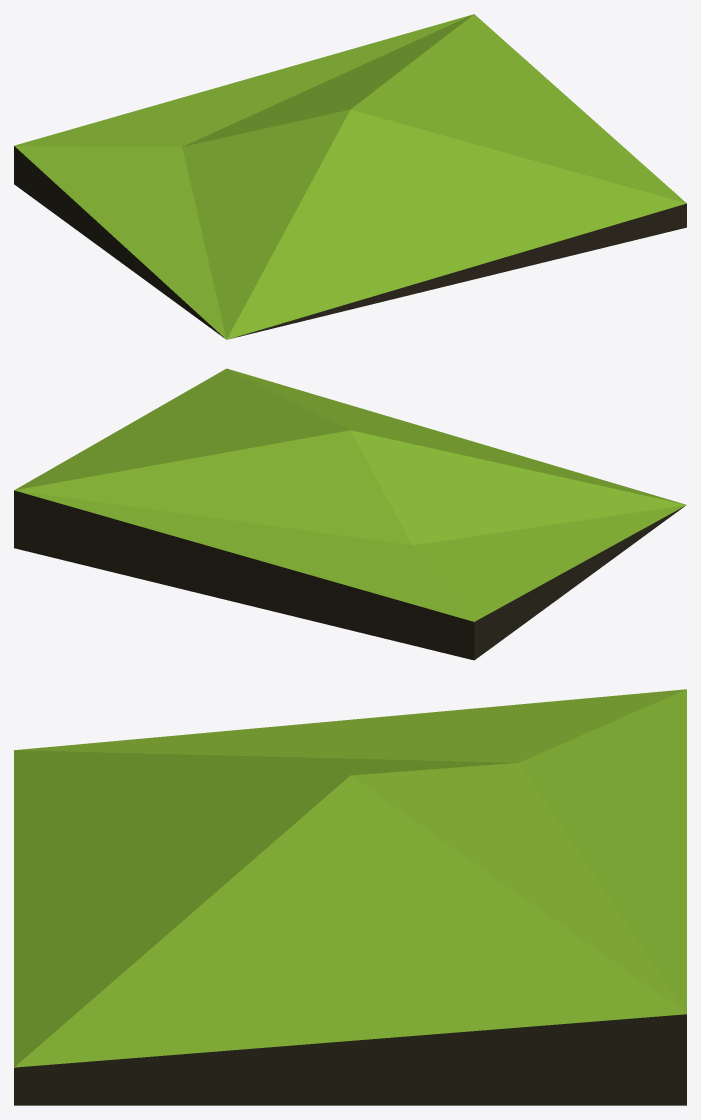
The model's file is building.site_model.points.fbx.
3 views of the same model, one above another, from view 1: azimuth 30°, elevation 25°; view 2: azimuth 150°, elevation 25°; view 3: azimuth 270°, elevation 25° (orthographic). The views are drawn at different scales.
Parts seen in each view (by area): view 1: Site_Model; view 2: Site_Model; view 3: Site_Model.
Boxes of the visible parts, bbox=[...] form: Site_Model: bbox=[14, 14, 686, 339]; Site_Model: bbox=[14, 368, 686, 660]; Site_Model: bbox=[14, 689, 686, 1105].
Size of the model in its own units: 10000 by 2000 by 8000.
